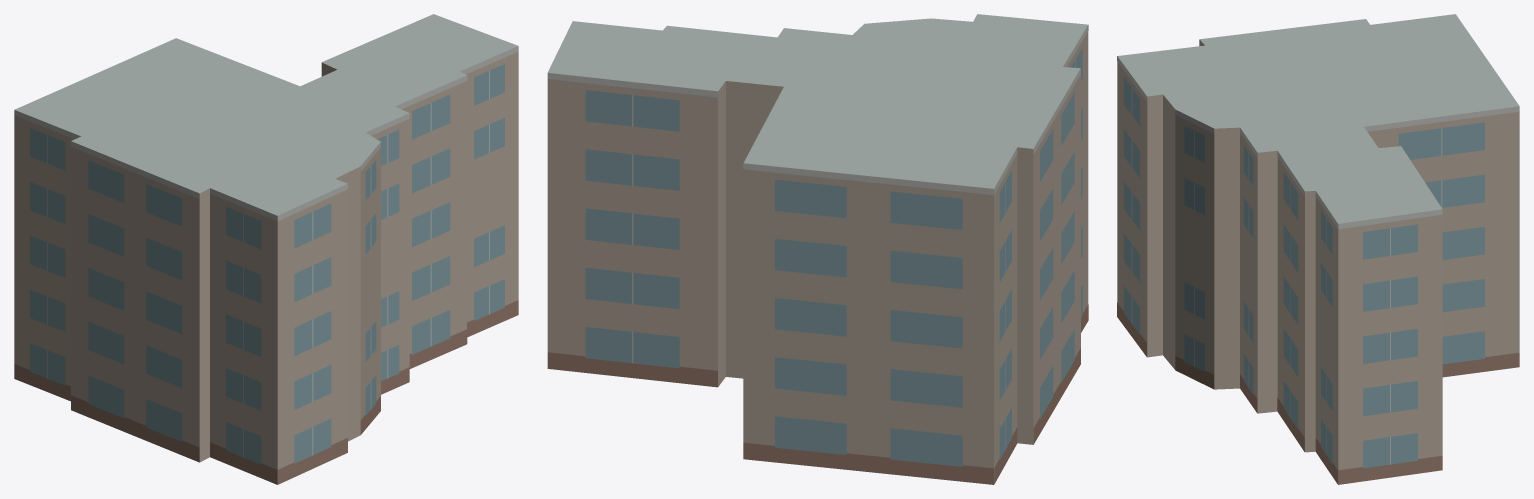
The model's file is survey-upis-32681018.glb.
The picture shows the model from 3 angles, left to right: view 1: azimuth 30°, elevation 25°; view 2: azimuth 150°, elevation 25°; view 3: azimuth 270°, elevation 25°; orthographic projection. The views are drawn at different scales.
Visible parts, largest first — view 1: survey-upis-32681018.tmp; view 2: survey-upis-32681018.tmp; view 3: survey-upis-32681018.tmp.
Boxes of the visible parts, <box> form: survey-upis-32681018.tmp: <box>14,14,518,484</box>; survey-upis-32681018.tmp: <box>547,14,1088,484</box>; survey-upis-32681018.tmp: <box>1117,14,1519,484</box>.
Size of the model in its own units: 20.2 by 11.7 by 16.37.
